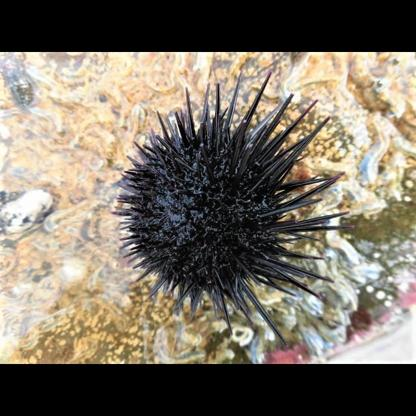urchin: (111, 68, 351, 326)
